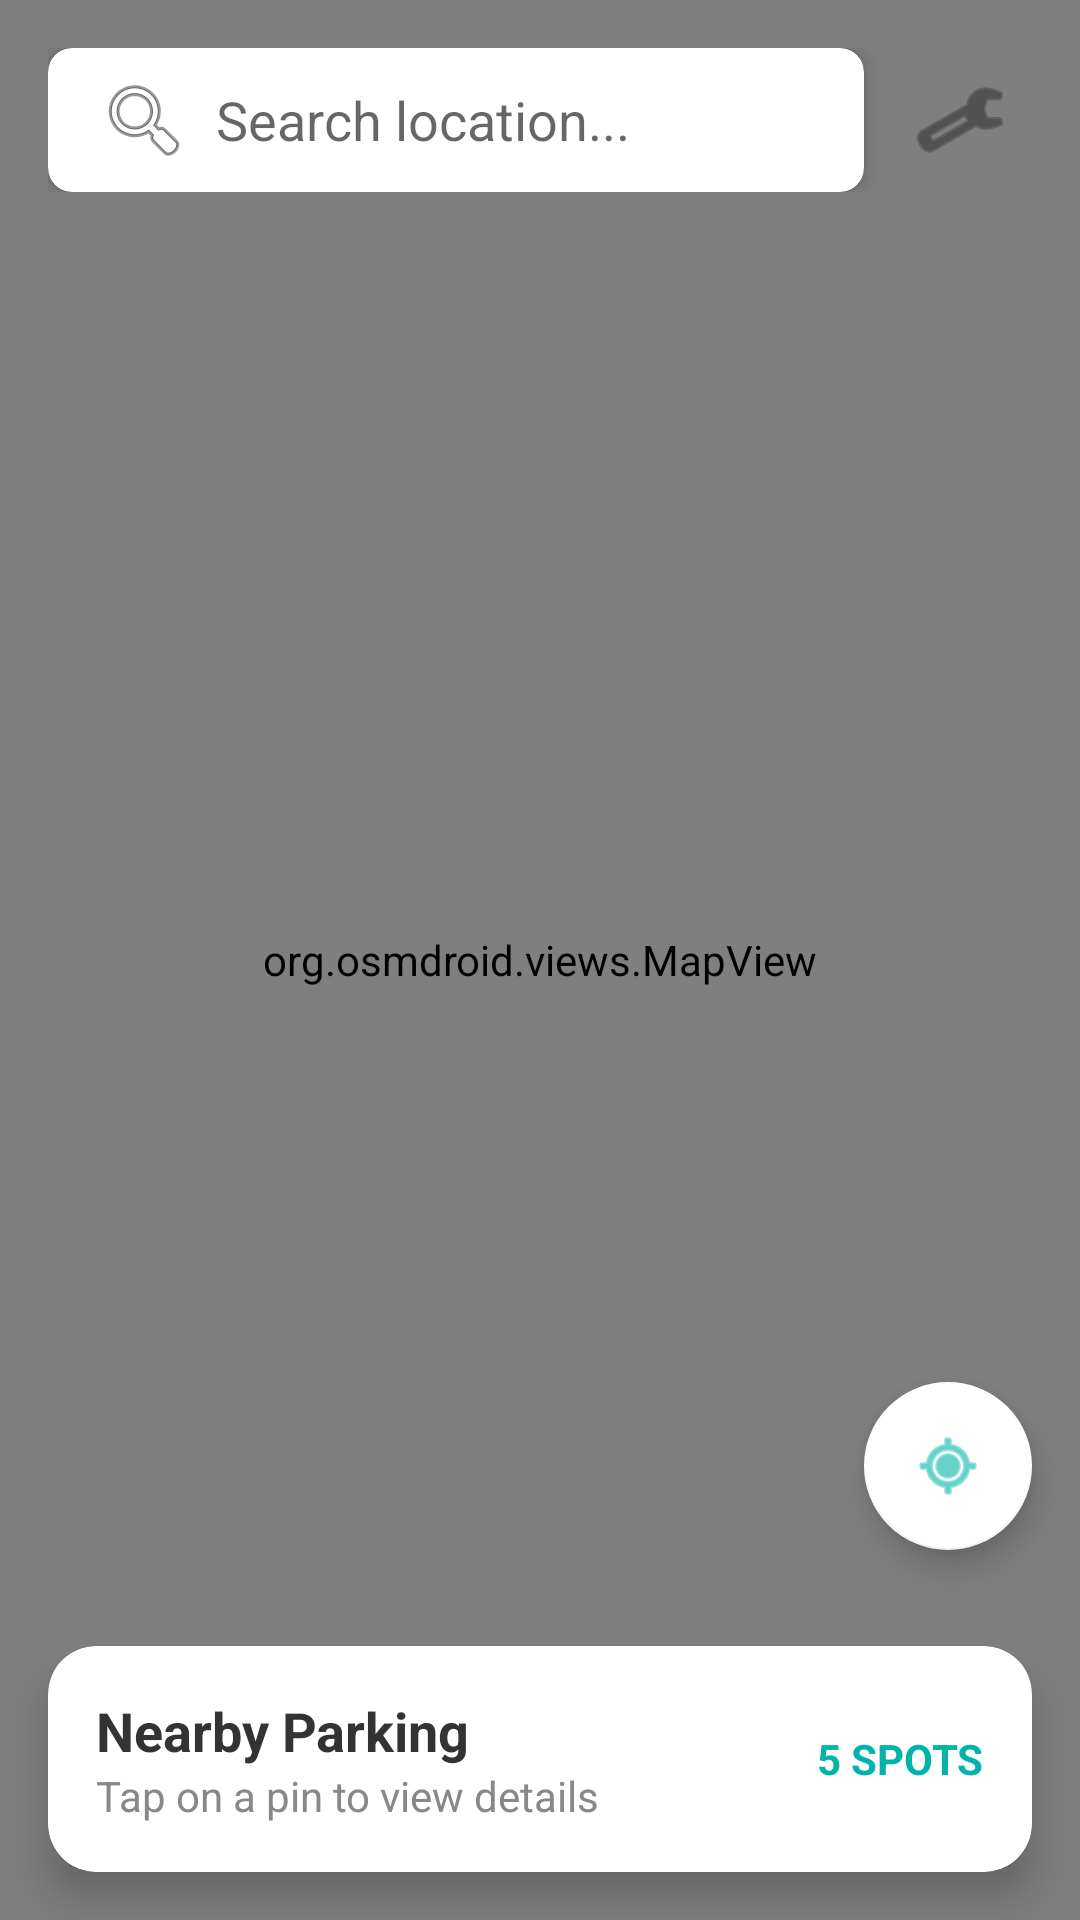

Icon bounding boxes for this 1080w x 1920h phone screenshot, format (x1, y1, x2, y2):
manage: (917, 88, 1003, 152)
mylocation: (864, 1382, 1032, 1550)
